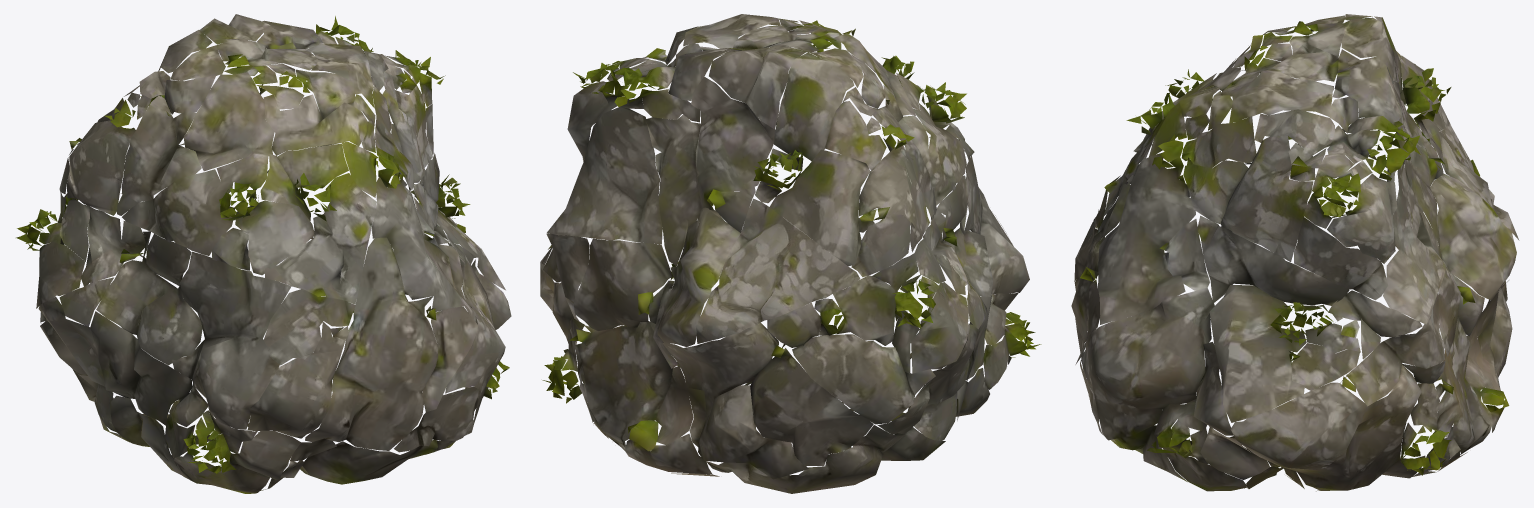
The model's file is env_boulder_moss_LOD2.glb.
The picture shows the model from 3 angles, left to right: view 1: azimuth 30°, elevation 25°; view 2: azimuth 150°, elevation 25°; view 3: azimuth 270°, elevation 25°; orthographic projection. The views are drawn at different scales.
Parts seen in each view (by area): view 1: tripo_node_5f5a647b-546c-43b3-a3c5-a81652d3ce2e; view 2: tripo_node_5f5a647b-546c-43b3-a3c5-a81652d3ce2e; view 3: tripo_node_5f5a647b-546c-43b3-a3c5-a81652d3ce2e.
Boxes of the visible parts, bbox=[...] form: tripo_node_5f5a647b-546c-43b3-a3c5-a81652d3ce2e: bbox=[16, 14, 511, 493]; tripo_node_5f5a647b-546c-43b3-a3c5-a81652d3ce2e: bbox=[540, 14, 1041, 493]; tripo_node_5f5a647b-546c-43b3-a3c5-a81652d3ce2e: bbox=[1071, 14, 1519, 491].
Bounding box in the file's own units: 0.9866 × 0.8918 × 0.8881.
Materials: 1 (1 with a texture image).
